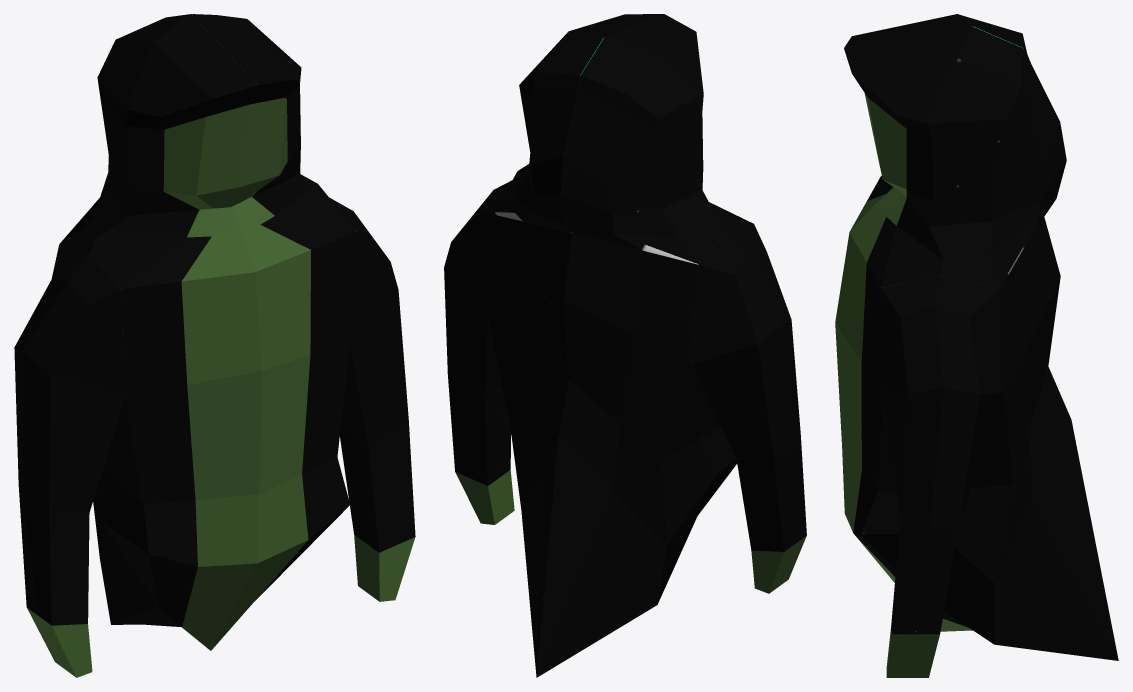
Rendered from Wraith.fbx.
3 views of the same model, side by side, from view 1: azimuth 30°, elevation 25°; view 2: azimuth 150°, elevation 25°; view 3: azimuth 270°, elevation 25° (orthographic). The views are drawn at different scales.
Visible parts, largest first — view 1: Wraith; view 2: Wraith; view 3: Wraith.
Boxes of the visible parts, x1,y1,x2,y2 form: Wraith: (14, 14, 415, 677); Wraith: (444, 14, 806, 677); Wraith: (835, 14, 1118, 677).
Bounding box in the file's own units: 110 × 180 × 72.92.
